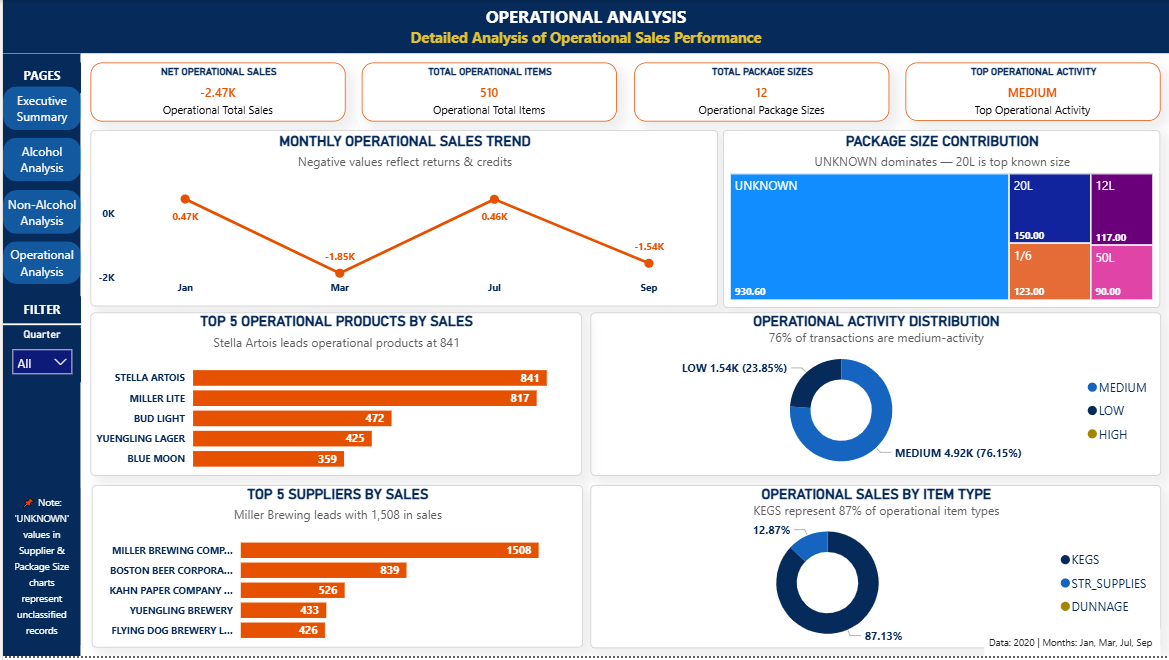

The page's visual inventory and layout, read from the dashboard file:
{"tool":"powerbi","page":{"name":"Operational Analysis","canvas":[1280,720],"ordinal":3},"visuals":[{"type":"textbox","box":[0,0,1280,58.6],"z":0},{"type":"cardVisual","title":"NET OPERATIONAL SALES","fields":{"Data":["operational_data_processed.Operational Total Sales"]},"box":[96.1,68.6,280,64.5],"z":0,"group":"g1"},{"type":"shape","box":[0,59,85.1,661.4],"z":1000},{"type":"cardVisual","title":"TOTAL OPERATIONAL ITEMS","fields":{"Data":["operational_data_processed.Operational Total Items"]},"box":[394.3,68.6,280,64.5],"z":1000,"group":"g1"},{"type":"cardVisual","title":"TOTAL PACKAGE SIZES","fields":{"Data":["operational_data_processed.Operational Package Sizes"]},"box":[692.5,68.6,280,64.5],"z":2000,"group":"g1"},{"type":"textbox","box":[0,68.8,85.7,33.8],"z":2000},{"type":"cardVisual","title":"TOP OPERATIONAL ACTIVITY","fields":{"Data":["operational_data_processed.Top Operational Activity"]},"box":[990.8,68.6,279.9,64.2],"z":3000,"group":"g1"},{"type":"actionButton","box":[0,208.7,85.7,48.3],"z":3000},{"type":"actionButton","box":[0,150.8,85.7,48.3],"z":4000},{"type":"actionButton","box":[0,265.4,85.7,47.1],"z":5000},{"type":"slicer","title":"Quarter","fields":{"Values":["non_alcohol_data_processed.quarter"]},"box":[0,360,85.7,60],"z":6000},{"type":"actionButton","box":[0,94.1,85.7,48.3],"z":7000},{"type":"textbox","box":[0,325.7,85.7,33.8],"z":8000},{"type":"group","id":"g1","title":"Group 1","box":[96.1,68.6,1174.6,64.5],"z":9000},{"type":"group","id":"g2","title":"Group 2","box":[96.1,142.7,1174.6,194.9],"z":10000},{"type":"lineChart","title":"MONTHLY OPERATIONAL SALES TREND","fields":{"Y":["Sum(operational_data_processed.total_sales)"],"Category":["operational_data_processed.Month Name"]},"box":[96.1,142.7,688.9,193.5],"z":10000,"group":"g2"},{"type":"donutChart","title":"OPERATIONAL ACTIVITY DISTRIBUTION","fields":{"Category":["operational_data_processed.operational_activity"],"Y":["Sum(operational_data_processed.total_sales)"]},"box":[644.6,343.1,626.1,179.5],"z":10000,"group":"g3"},{"type":"group","id":"g3","title":"Group 3","box":[96.1,343.1,1174.6,369.1],"z":11000},{"type":"clusteredBarChart","title":"TOP 5 OPERATIONAL PRODUCTS BY SALES","fields":{"Category":["operational_data_processed.item_description"],"Y":["Sum(operational_data_processed.total_sales)"]},"box":[96.1,343.1,538.8,179.5],"z":11000,"group":"g3"},{"type":"treemap","title":"PACKAGE SIZE CONTRIBUTION","fields":{"Values":["Sum(operational_data_processed.total_sales)"],"Group":["operational_data_processed.package_size"]},"box":[790.8,142.7,479.9,194.9],"z":11002,"group":"g2"},{"type":"shape","box":[0,341.4,85.7,28.6],"z":12000},{"type":"clusteredBarChart","title":"TOP 5 SUPPLIERS BY SALES","fields":{"Category":["operational_data_processed.supplier"],"Y":["Sum(operational_data_processed.total_sales)"]},"box":[97.5,532.7,538.8,178.1],"z":12000,"group":"g3"},{"type":"textbox","box":[1077.2,689.8,193.5,30.2],"z":12001},{"type":"textbox","box":[0,536.5,85.1,171.5],"z":12002},{"type":"donutChart","title":"OPERATIONAL SALES BY ITEM TYPE","fields":{"Y":["Sum(operational_data_processed.total_sales)"],"Category":["operational_data_processed.item_type"]},"box":[644.6,532.7,626.1,179.5],"z":14000,"group":"g3"}]}

Visuals, with their boxes on the page's 1280x720 design canvas (x1, y1, x2, y2). These are canvas units, not pixel positions in the 1169x660 screenshot, which may show the page scaled, cropped or inside an application window:
textbox: <box>0,0,1280,59</box>
"NET OPERATIONAL SALES" cardVisual: <box>96,69,376,133</box>
shape: <box>0,59,85,720</box>
"TOTAL OPERATIONAL ITEMS" cardVisual: <box>394,69,674,133</box>
"TOTAL PACKAGE SIZES" cardVisual: <box>692,69,972,133</box>
textbox: <box>0,69,86,103</box>
"TOP OPERATIONAL ACTIVITY" cardVisual: <box>991,69,1271,133</box>
actionButton: <box>0,209,86,257</box>
actionButton: <box>0,151,86,199</box>
actionButton: <box>0,265,86,312</box>
"Quarter" slicer: <box>0,360,86,420</box>
actionButton: <box>0,94,86,142</box>
textbox: <box>0,326,86,360</box>
"Group 1" group: <box>96,69,1271,133</box>
"Group 2" group: <box>96,143,1271,338</box>
"MONTHLY OPERATIONAL SALES TREND" lineChart: <box>96,143,785,336</box>
"OPERATIONAL ACTIVITY DISTRIBUTION" donutChart: <box>645,343,1271,523</box>
"Group 3" group: <box>96,343,1271,712</box>
"TOP 5 OPERATIONAL PRODUCTS BY SALES" clusteredBarChart: <box>96,343,635,523</box>
"PACKAGE SIZE CONTRIBUTION" treemap: <box>791,143,1271,338</box>
shape: <box>0,341,86,370</box>
"TOP 5 SUPPLIERS BY SALES" clusteredBarChart: <box>98,533,636,711</box>
textbox: <box>1077,690,1271,720</box>
textbox: <box>0,536,85,708</box>
"OPERATIONAL SALES BY ITEM TYPE" donutChart: <box>645,533,1271,712</box>
